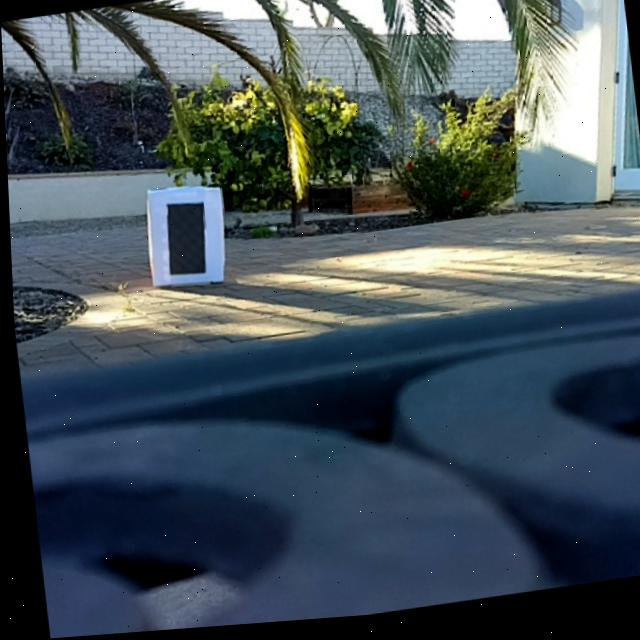led: (162, 202, 206, 279)
